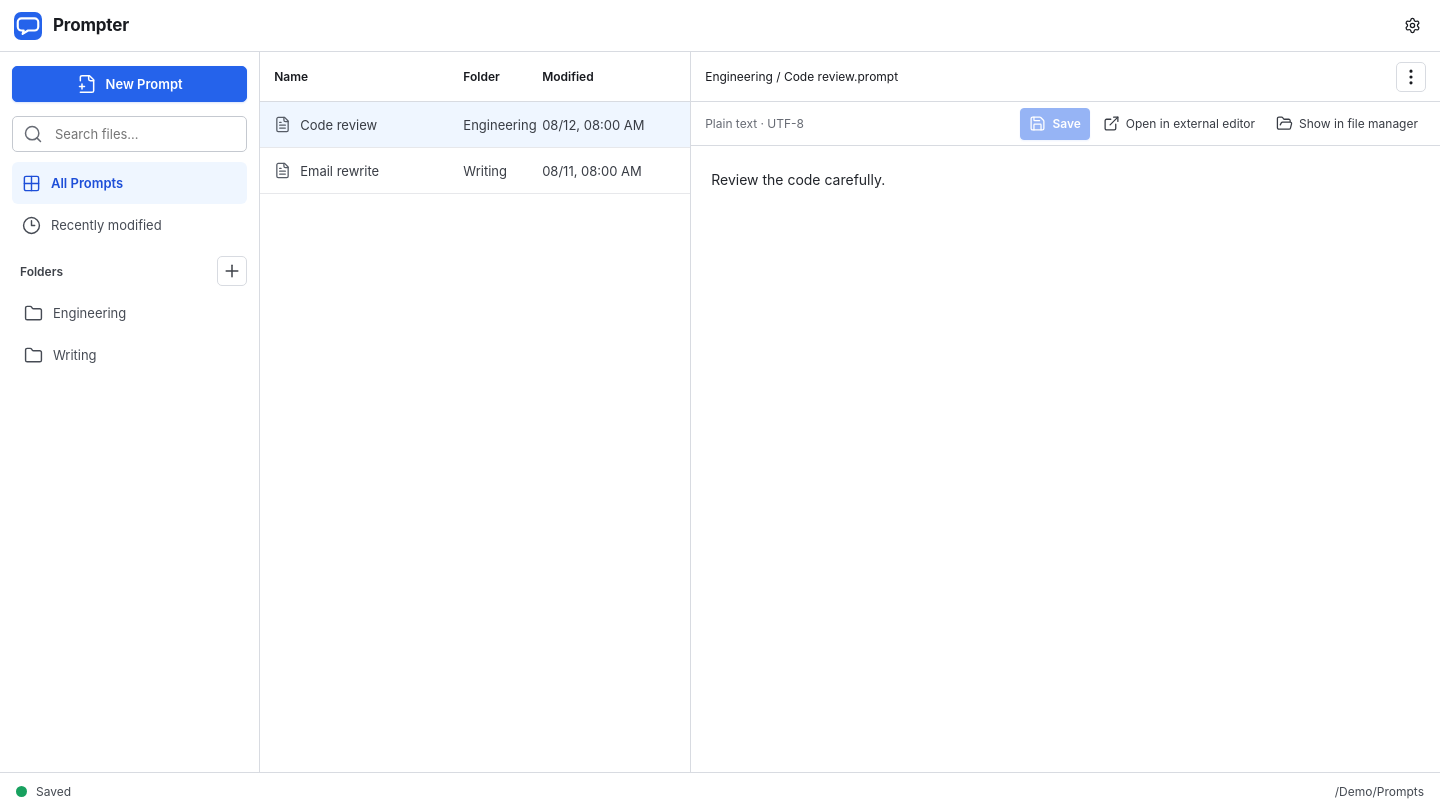
Scenario: Manager › filters the prompt list by folder and loads the selected document
Expected: the text "Code review" is shown, [274, 116, 377, 133]
Click the button "Writing". click: (130, 355)
box: [12, 334, 247, 376]
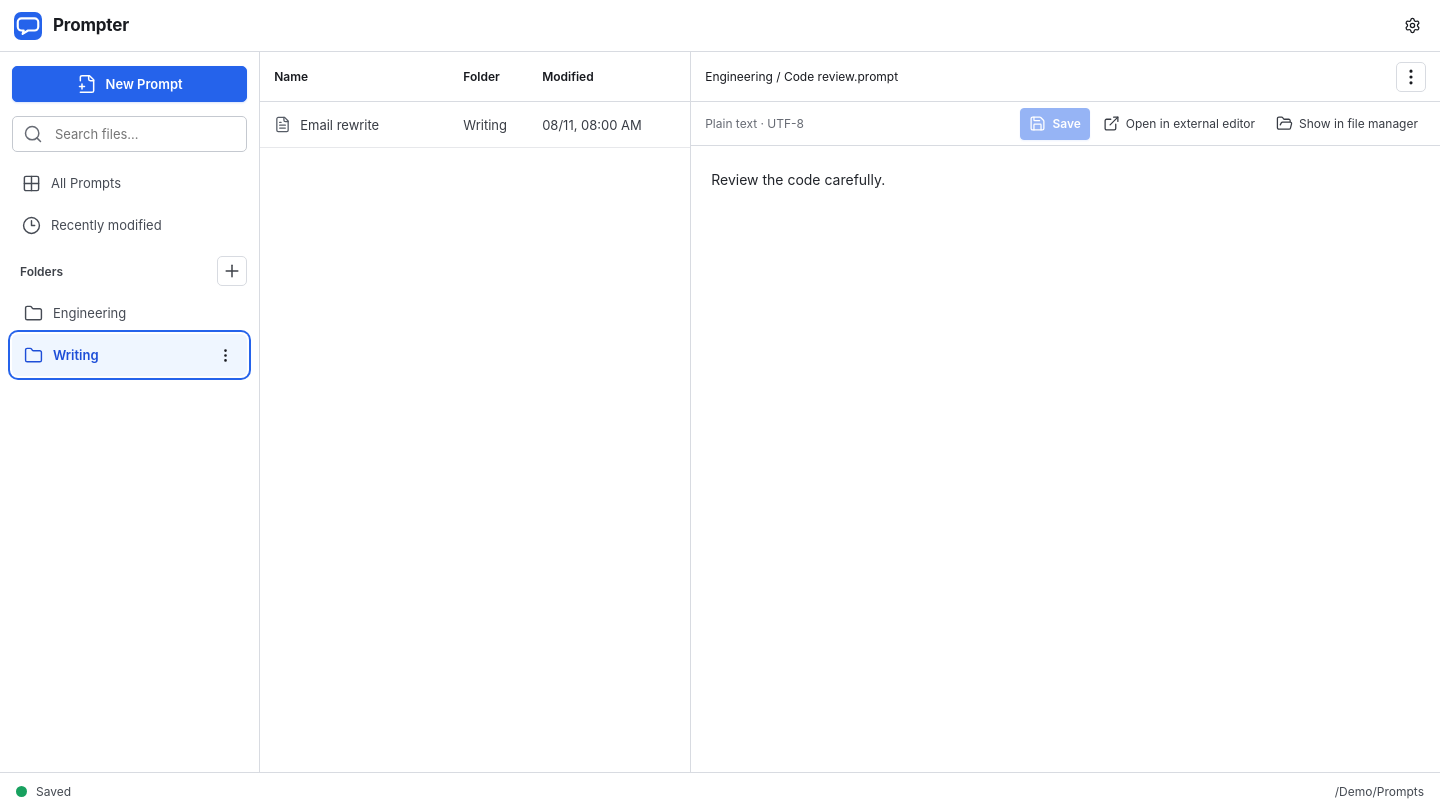
Click the text "Email rewrite". click: (327, 124)
box: [274, 116, 379, 133]
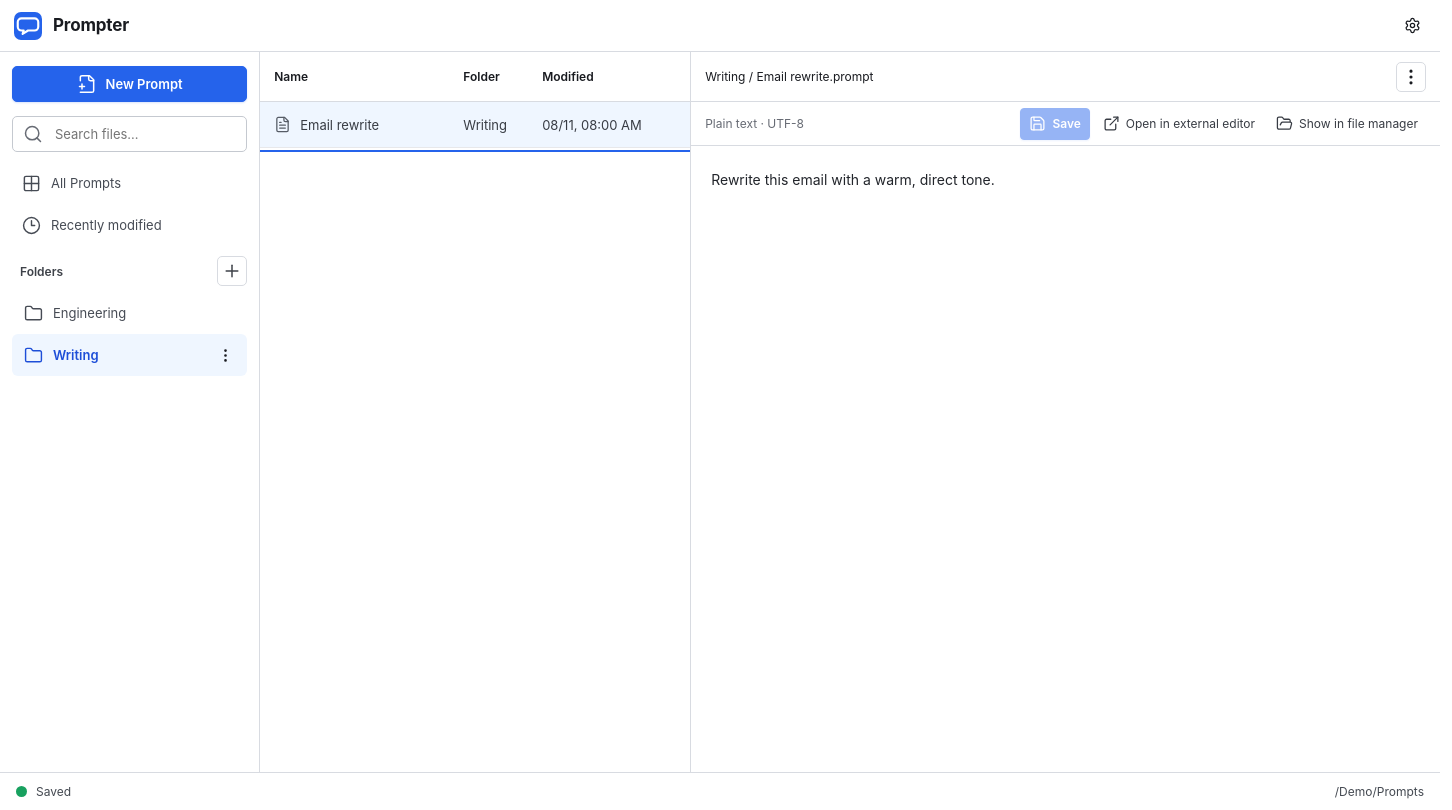
Result: the text box showing "Rewrite this email with a warm, direct tone." is shown at [691, 146, 1440, 772]
